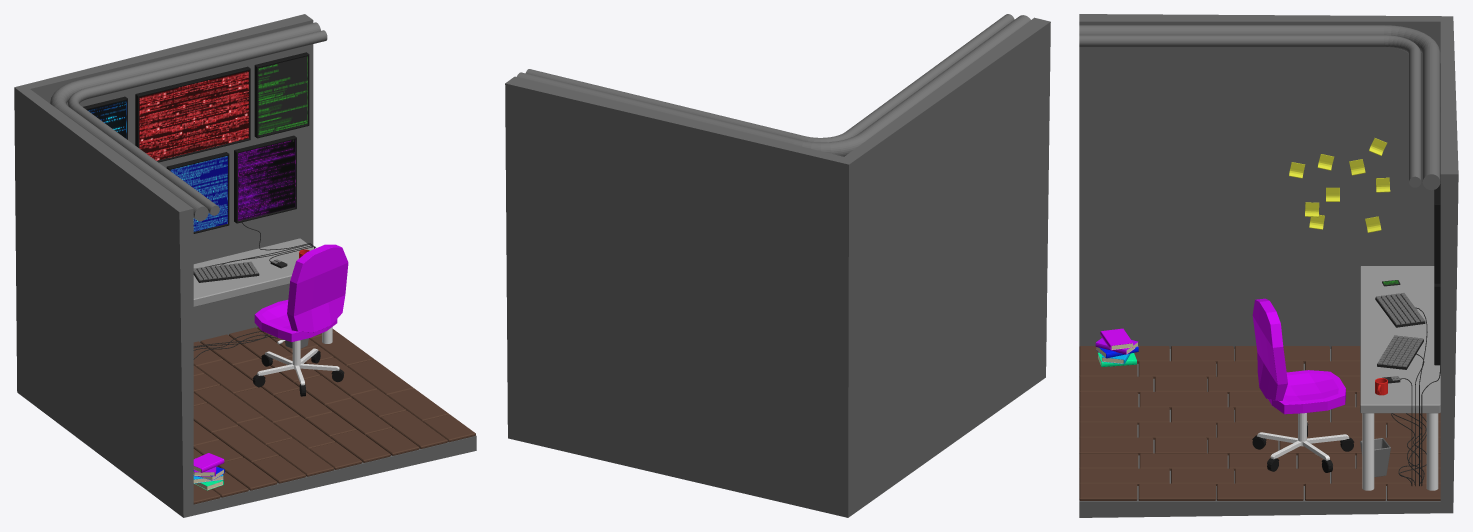
Rendered from hackersRoom.glb.
3 views of the same model, side by side, from view 1: azimuth 30°, elevation 25°; view 2: azimuth 150°, elevation 25°; view 3: azimuth 270°, elevation 25° (orthographic). The views are drawn at different scales.
Visible parts, largest first — view 1: Plane; view 2: Plane; view 3: Plane.
Part boxes in pixels (x1,y1,x2,y2): Plane: (14, 14, 476, 517); Plane: (505, 14, 1050, 517); Plane: (1079, 14, 1458, 517).
Size of the model in its own units: 210 by 210 by 210.
Materials: 42 (7 with a texture image).
